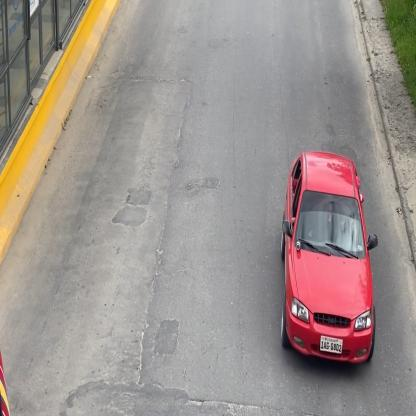Placa: (320, 336, 342, 356)
